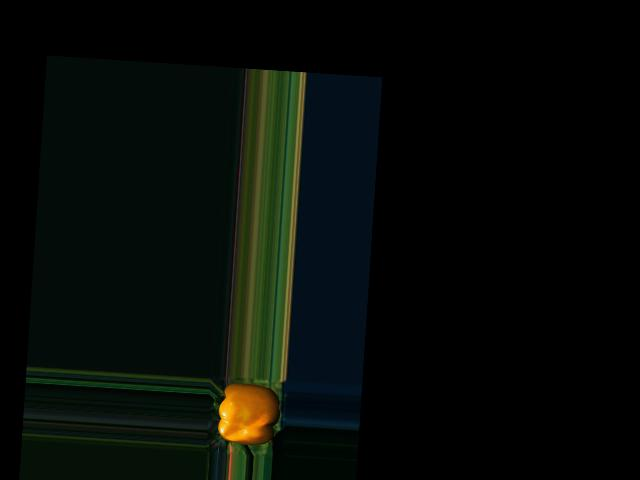bell_pepper: (210, 377, 282, 451)
